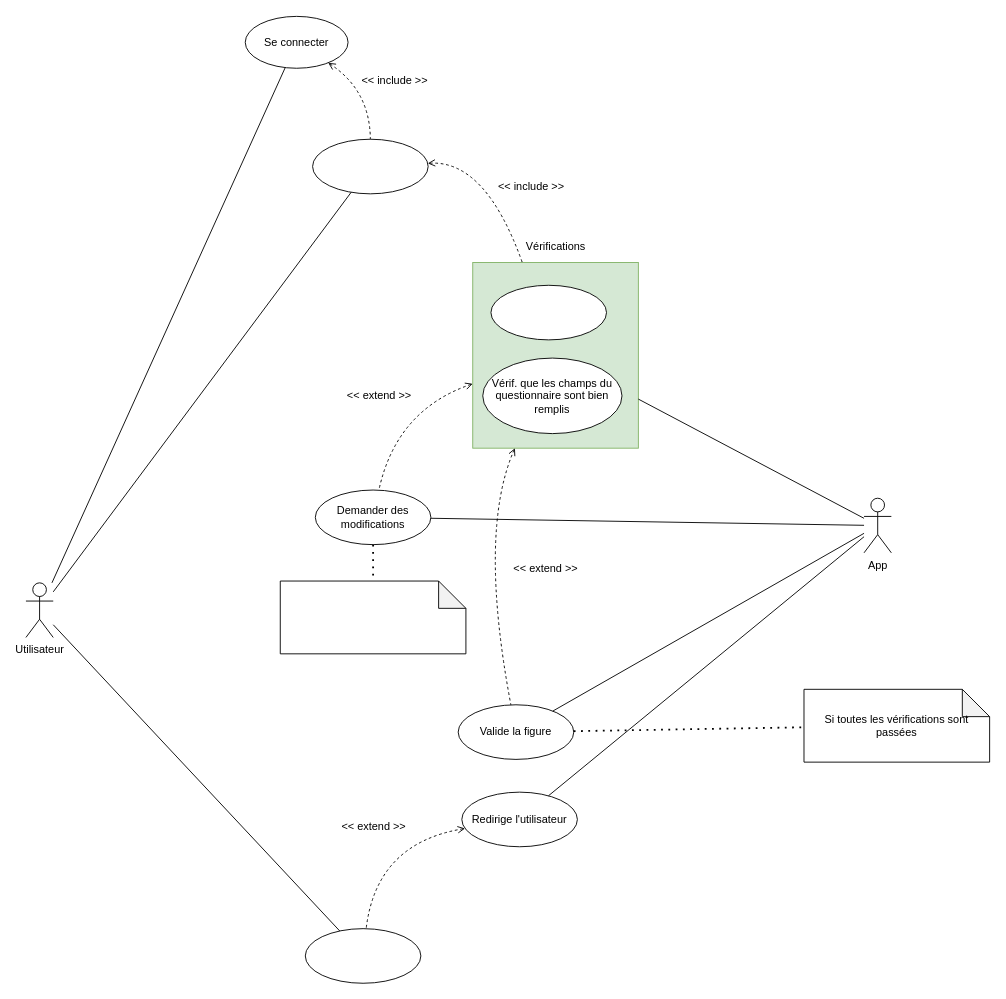
Some shapes in this 1006 by 999 pixel diagram are drawn without their labels. Each missing label, with the box of its shape:
Peut consulter la nouvelle figure sur la liste: (304, 928, 421, 983)
Remplir le formulaire d'ajout de figure: (312, 138, 428, 194)
Si les vérifications donnent des erreurs: (279, 580, 466, 654)
Vérif. que le nom n'existe pas déjà: (490, 284, 607, 340)
